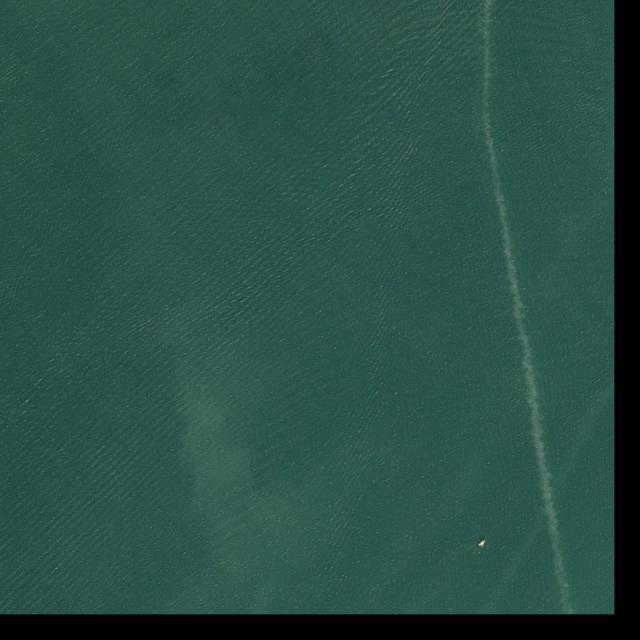ship: (478, 538, 487, 548)
